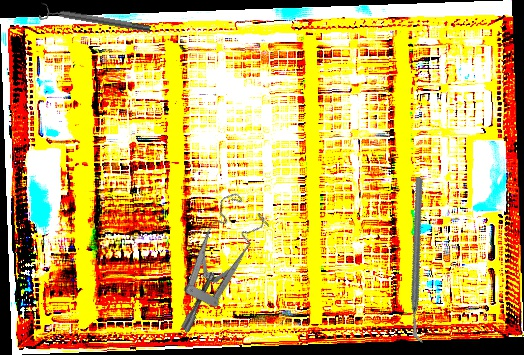Chopper: (353, 176, 486, 344)
Fixation Ring: (38, 1, 152, 39)
Speculum: (135, 186, 289, 334)
